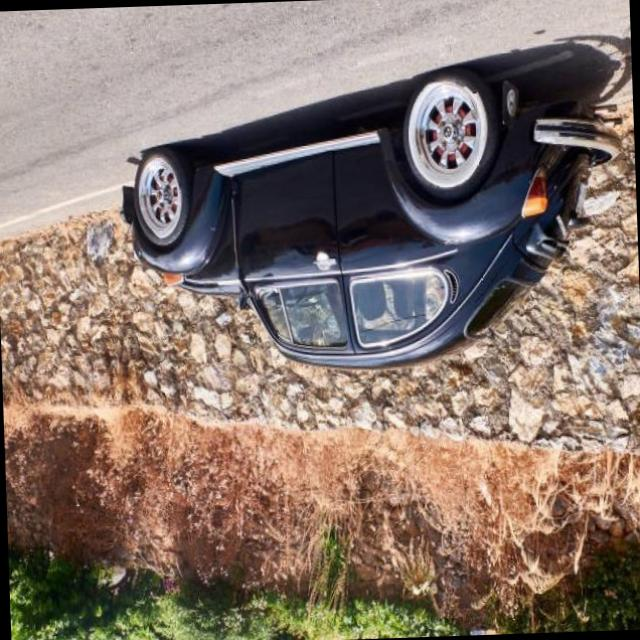car: (128, 76, 621, 379)
